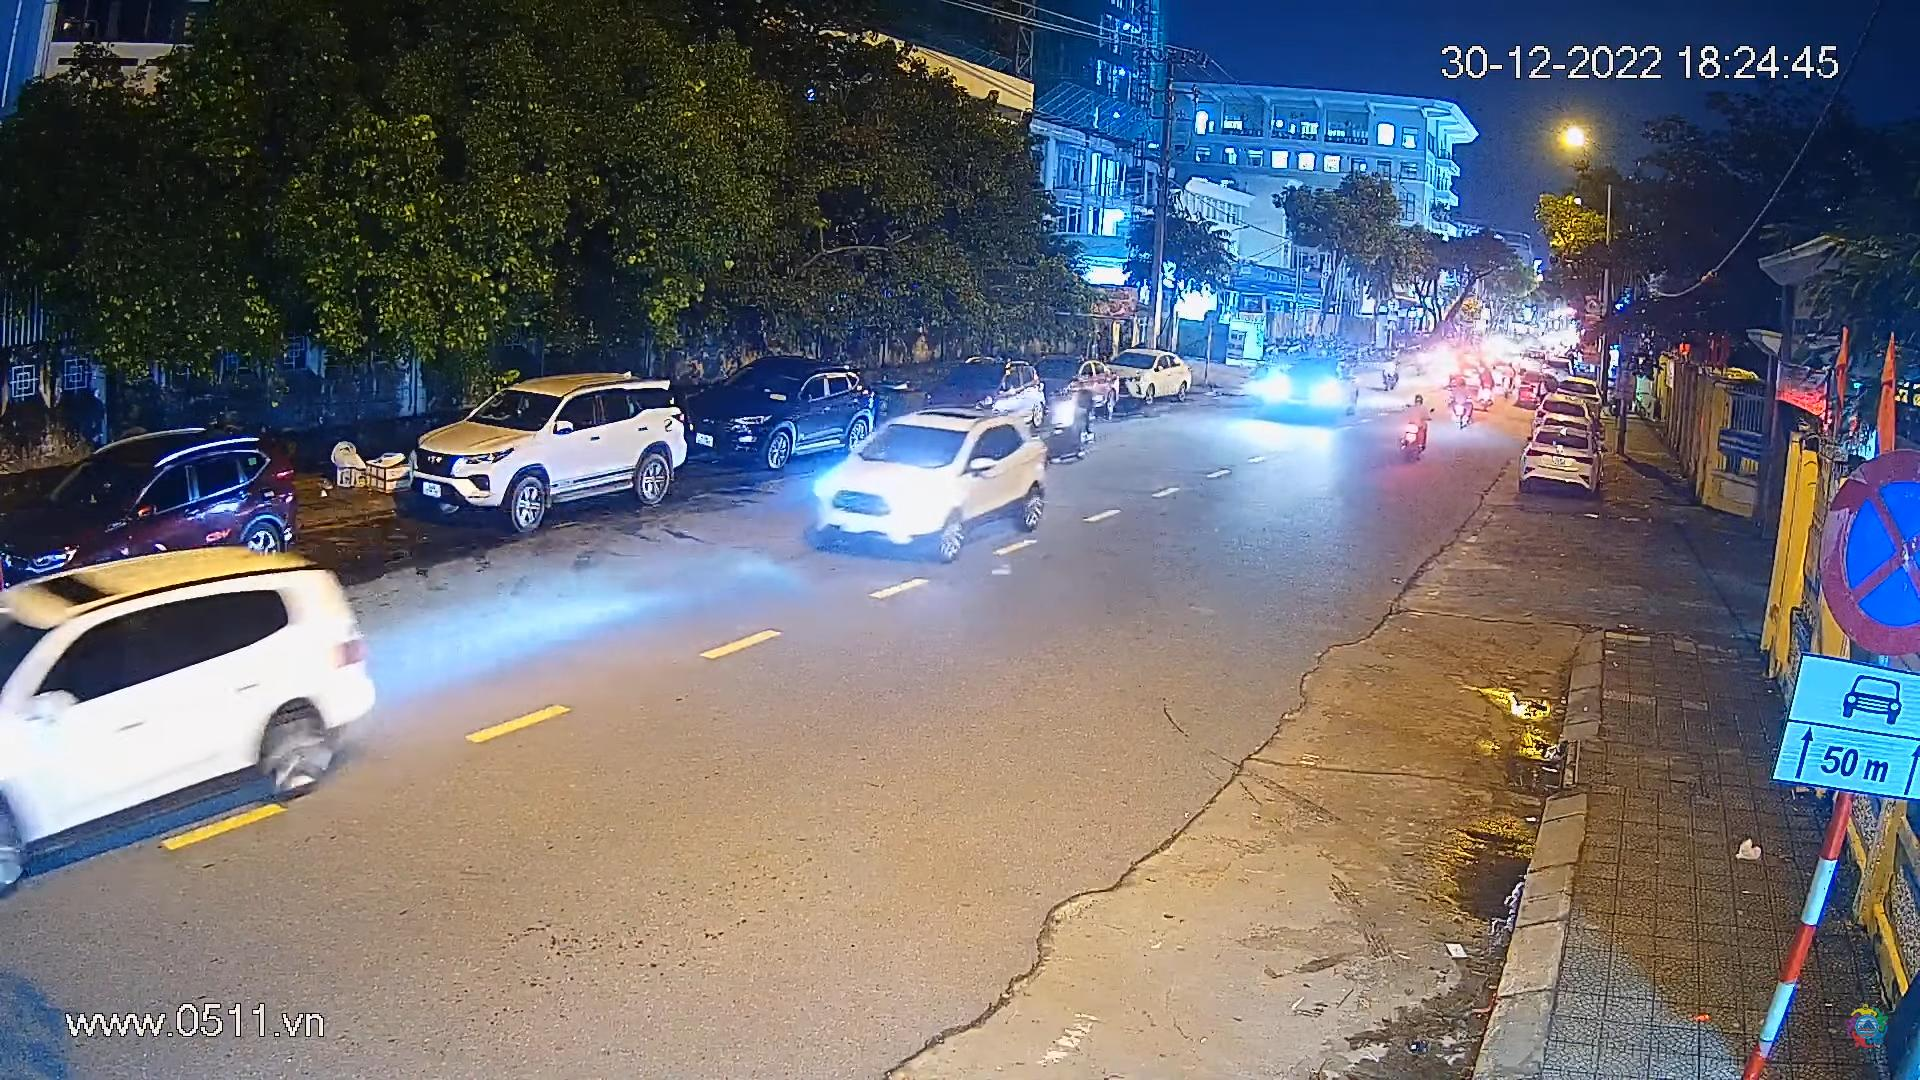car: (0, 549, 378, 898), (0, 423, 301, 628), (402, 353, 699, 541), (808, 400, 1067, 568), (694, 360, 884, 476), (885, 348, 1054, 450), (1253, 352, 1374, 429), (1515, 422, 1609, 495), (1035, 353, 1117, 423), (1101, 345, 1192, 406), (1535, 390, 1596, 438)
motorcycle: (1040, 372, 1098, 465), (1398, 390, 1433, 463), (1447, 373, 1474, 427), (1379, 347, 1400, 393)
